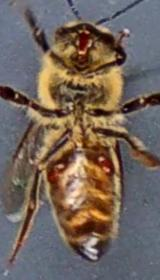varroa_mite: (86, 142, 125, 186), (44, 151, 71, 192)
